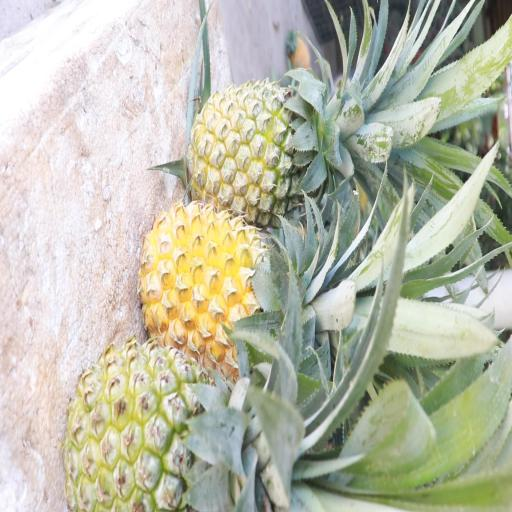------------------------------: (70, 336, 257, 512), (189, 82, 339, 225)
Pineapple - v8 v1: (142, 200, 300, 354)
